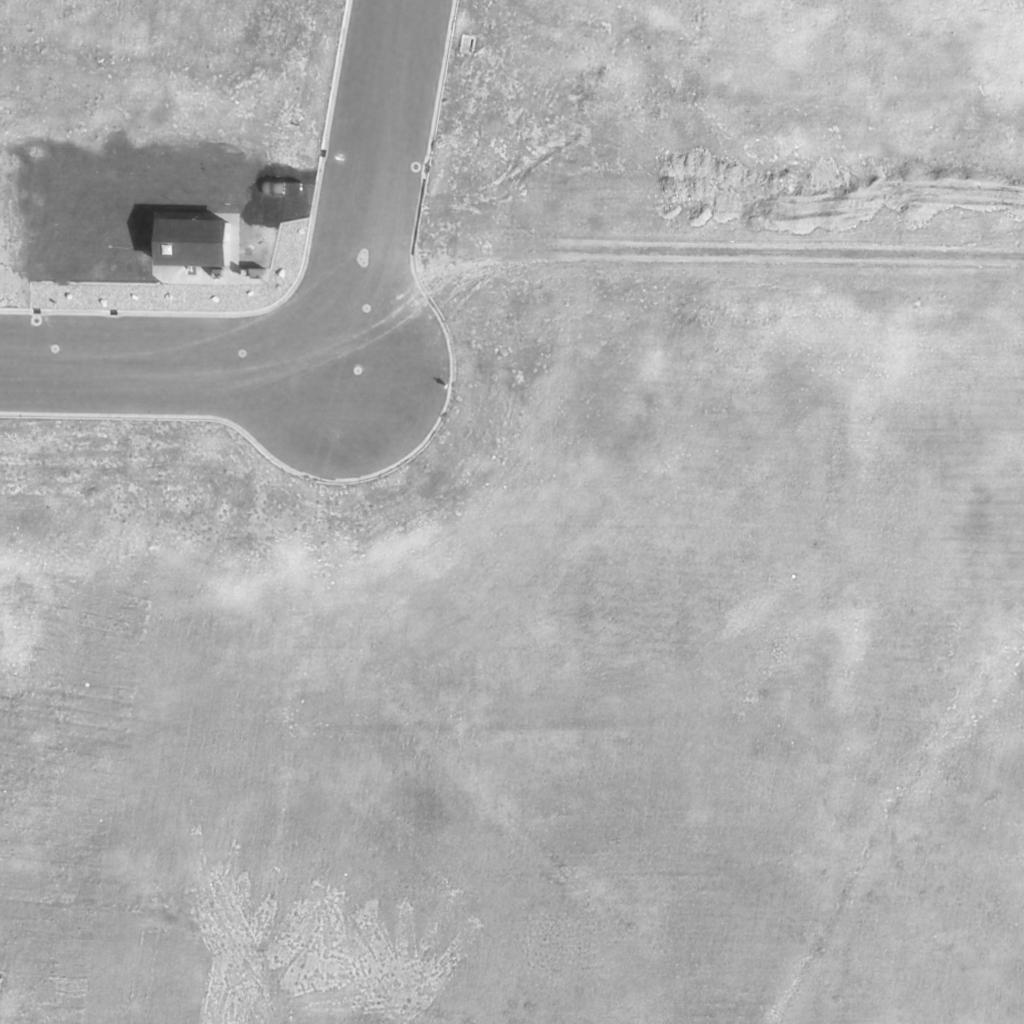vehicle: (261, 182, 305, 196)
